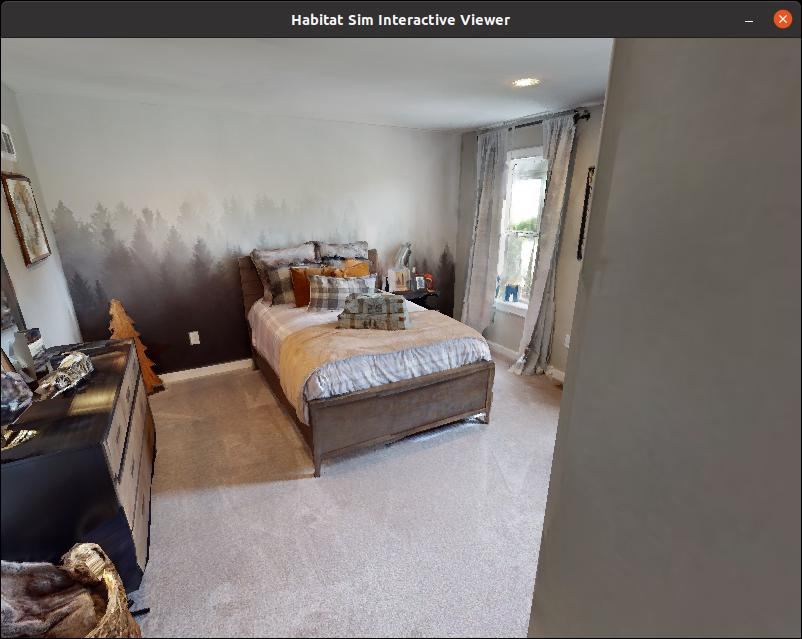bed: (243, 225, 505, 486)
